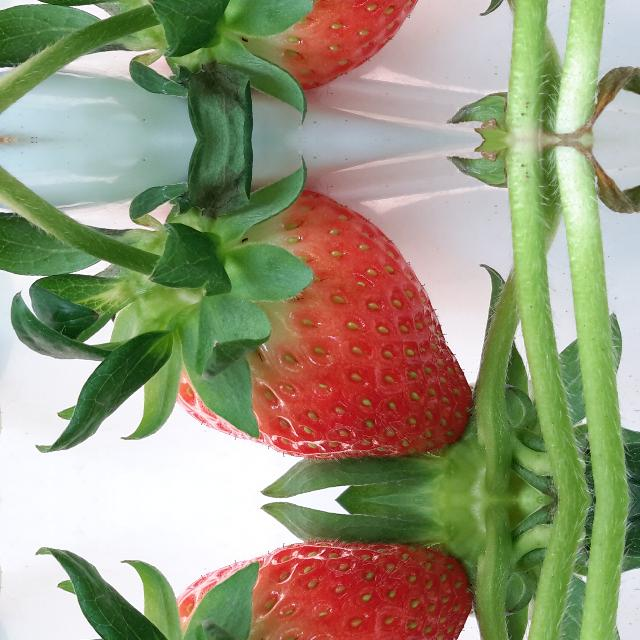Health_100: (176, 188, 474, 462), (176, 538, 473, 640), (176, 0, 473, 91)
